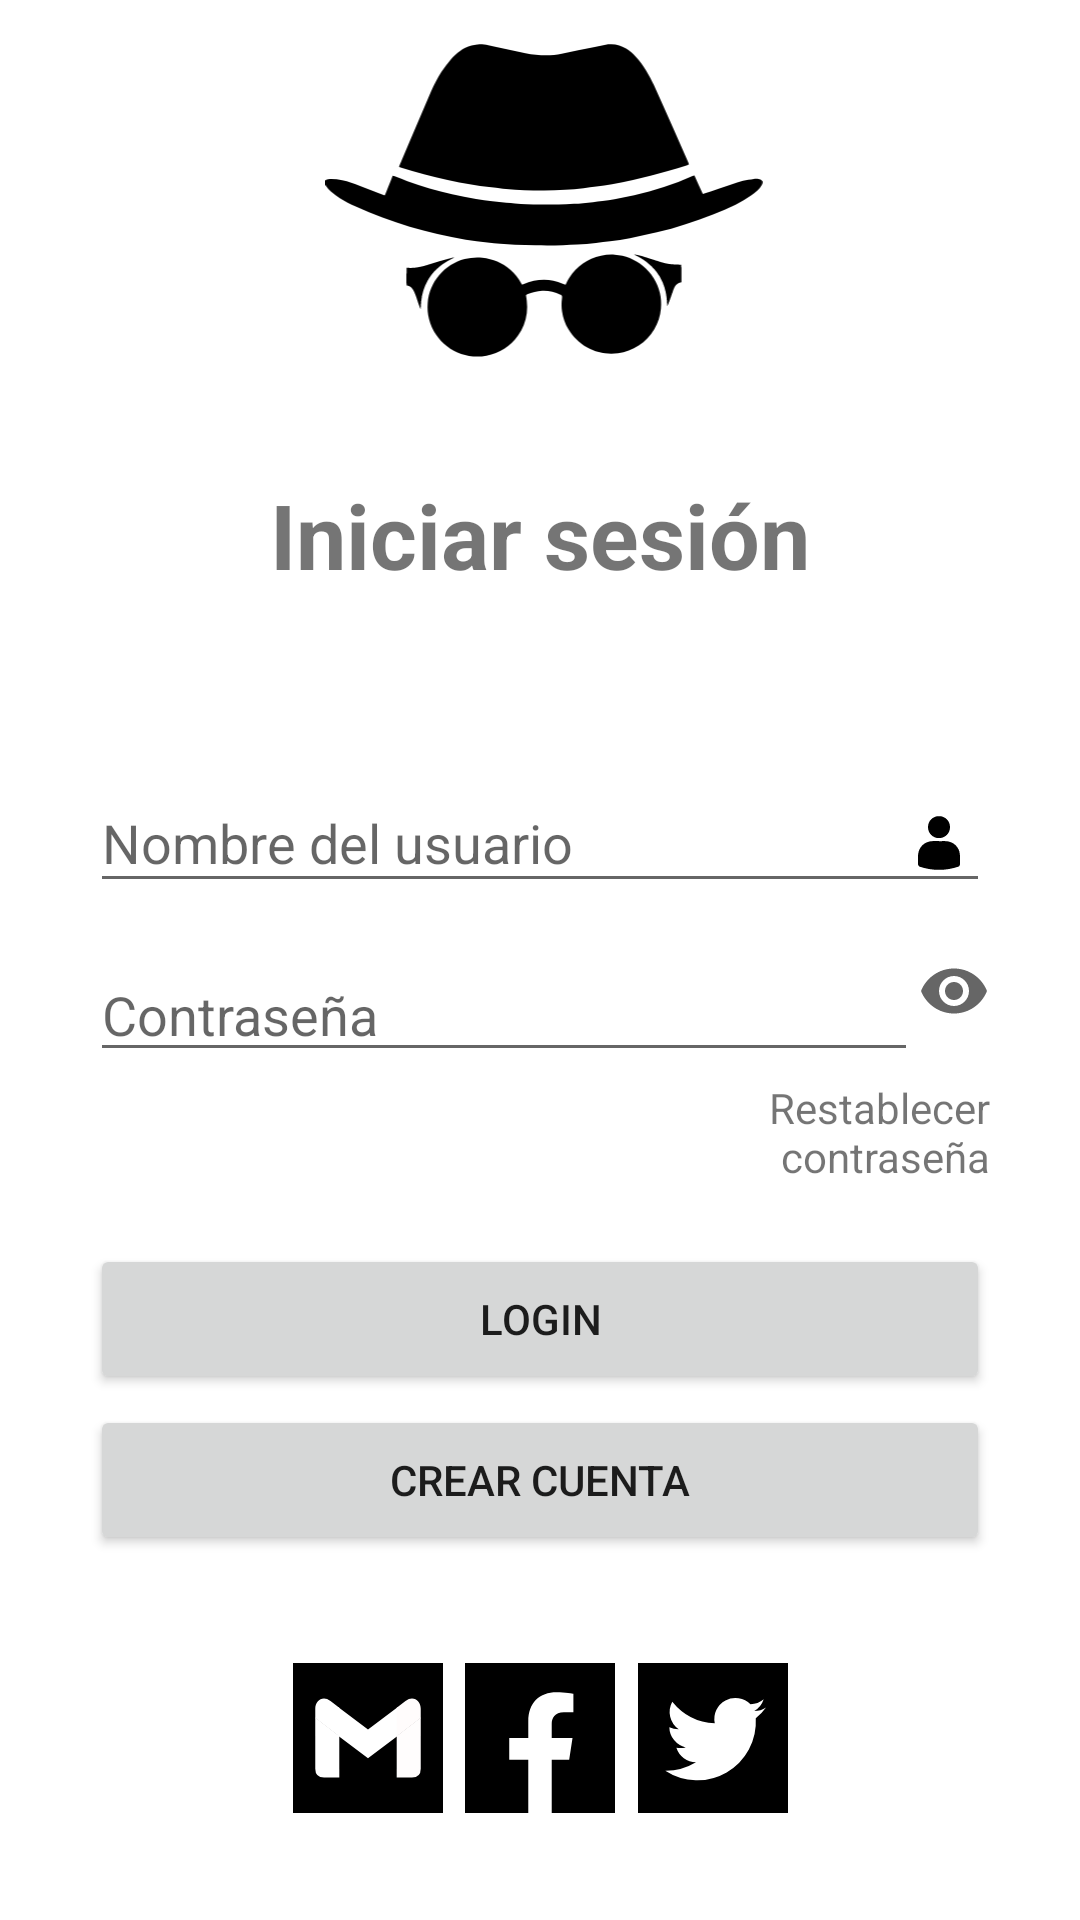

Icons on this 1080 x 1920 Android screen, each with its box as [x1, y1, x2, y2]:
ojo: [921, 968, 987, 1014]
